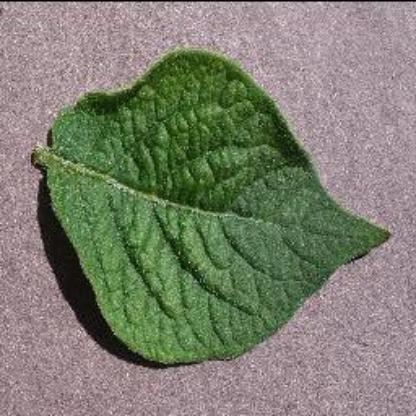Healthy-plant: (25, 37, 399, 371)
